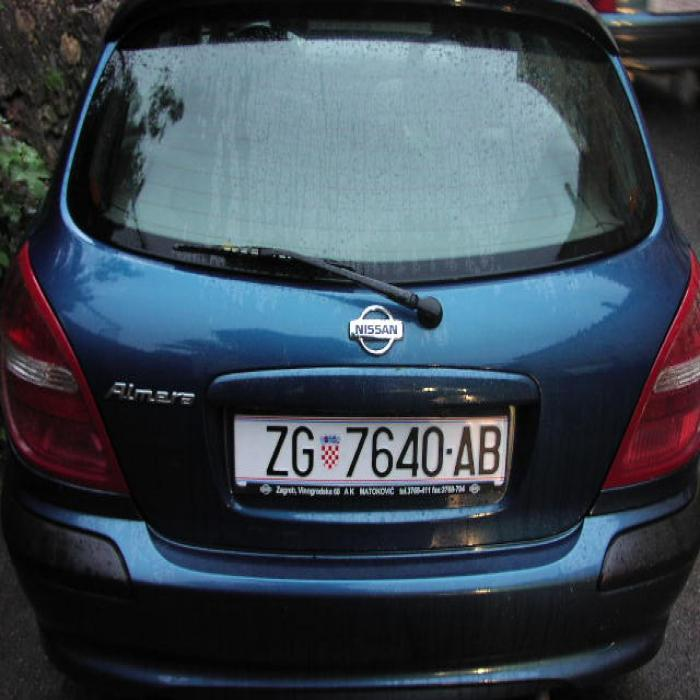number_plate: (235, 418, 502, 477)
